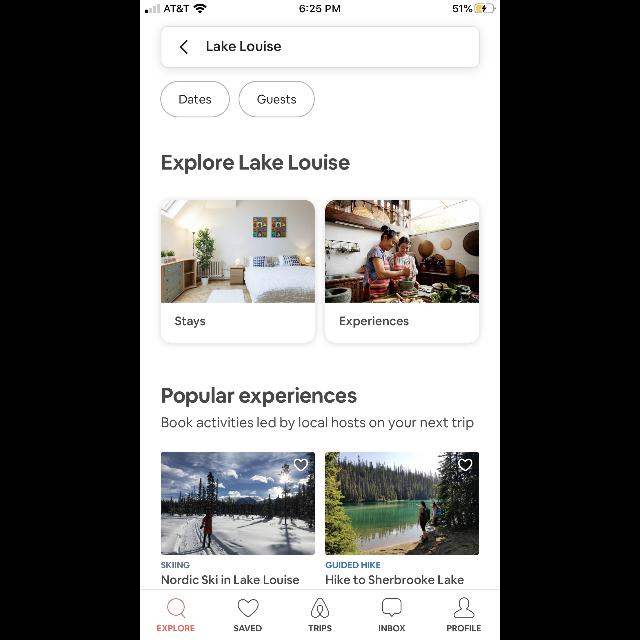icon: (382, 598, 402, 618), (454, 598, 474, 618), (168, 598, 186, 618), (238, 599, 258, 617), (294, 458, 308, 472), (458, 458, 472, 472), (180, 40, 188, 54)
image: (161, 200, 315, 302), (325, 200, 479, 302), (161, 453, 315, 555), (325, 452, 479, 554), (311, 598, 329, 618)
input: (160, 26, 480, 68)
text: (162, 416, 474, 430), (162, 387, 356, 407), (162, 154, 350, 174), (162, 575, 300, 585), (326, 574, 462, 584), (340, 316, 408, 328), (207, 40, 281, 51), (176, 316, 206, 328), (326, 562, 380, 568), (158, 624, 195, 632), (448, 624, 480, 632), (379, 624, 405, 632), (162, 562, 190, 568), (234, 625, 262, 631), (308, 625, 332, 631)
textbutton: (239, 80, 315, 118), (160, 80, 230, 118)
uppertaskbar: (140, 1, 500, 16)
